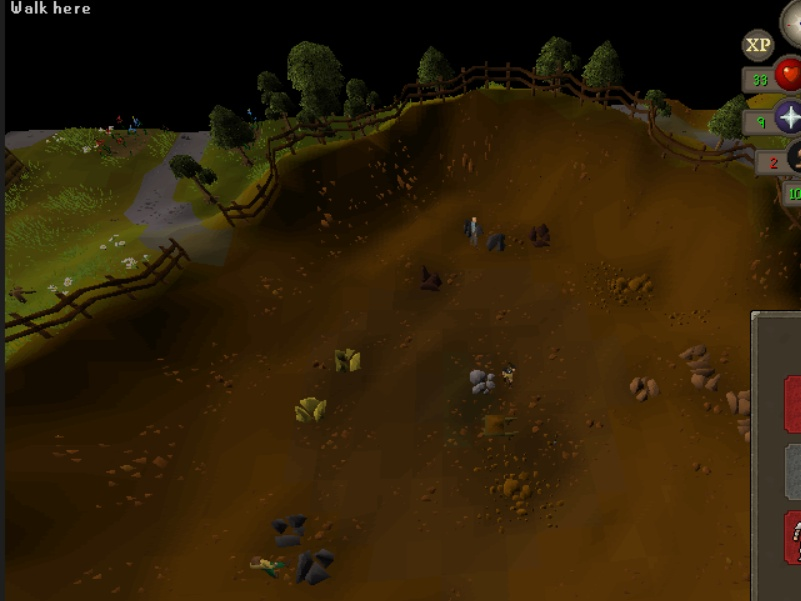copper: (623, 369, 667, 408), (677, 340, 718, 374), (689, 362, 730, 396), (728, 383, 754, 417)
gold: (289, 389, 335, 427), (325, 342, 371, 380)
iron: (414, 264, 450, 294), (523, 220, 559, 250)
